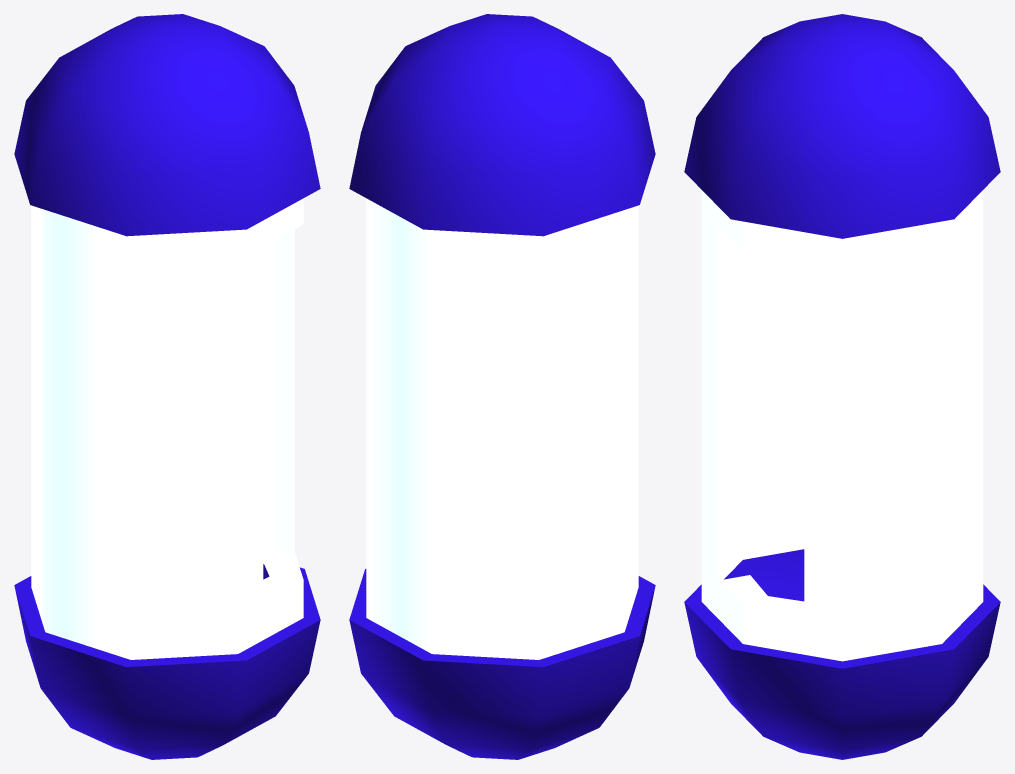
File: cápsula.FBX
3 renders of one model, left to right at view 1: azimuth 30°, elevation 25°; view 2: azimuth 150°, elevation 25°; view 3: azimuth 270°, elevation 25°, orthographic.
Parts seen in each view (by area): view 1: cápsula; view 2: cápsula; view 3: cápsula.
Part boxes in pixels (x1=…): cápsula: x1=14, y1=14, x2=320, y2=759; cápsula: x1=349, y1=14, x2=655, y2=759; cápsula: x1=684, y1=14, x2=1000, y2=759.
Bounding box in the file's own units: 10.76 × 26.9 × 10.76.
